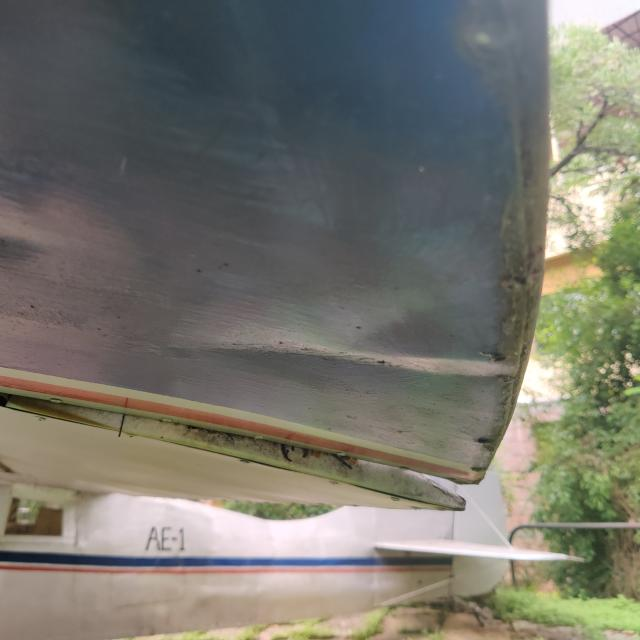dent: (177, 282, 540, 420)
